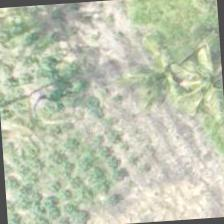Kelapa_Sawit: (164, 31, 223, 127)
